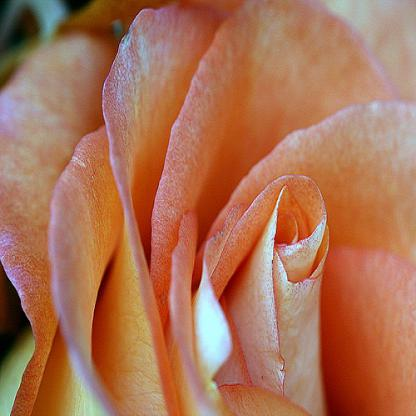ROSE-MAWAR: (6, 6, 416, 414)
